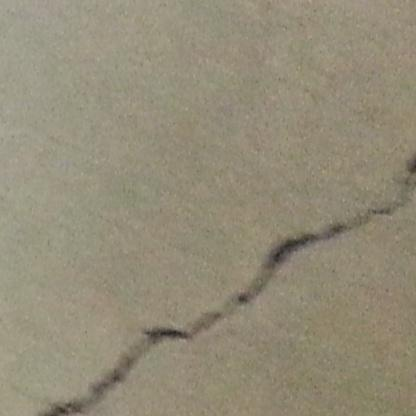Cracks: (32, 309, 226, 416), (232, 203, 396, 313), (401, 119, 416, 184)
